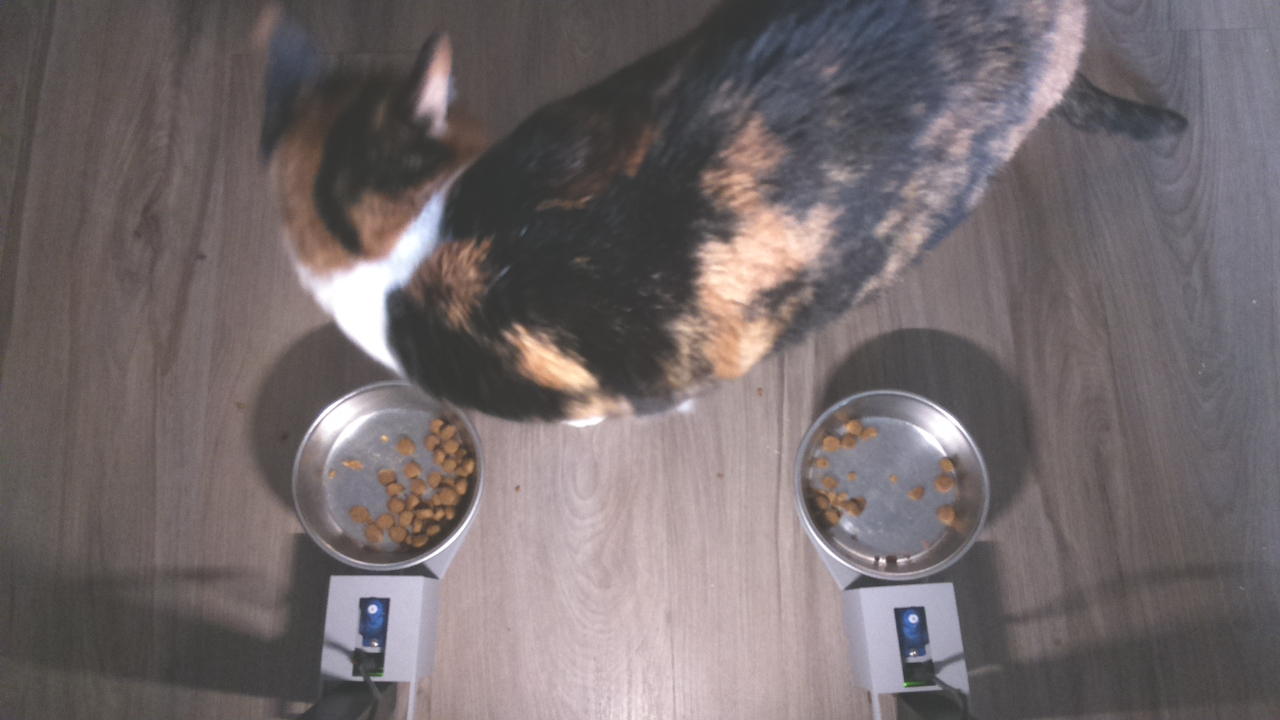bella: (212, 1, 479, 278)
open_bowl: (285, 383, 491, 575), (798, 387, 993, 584)
